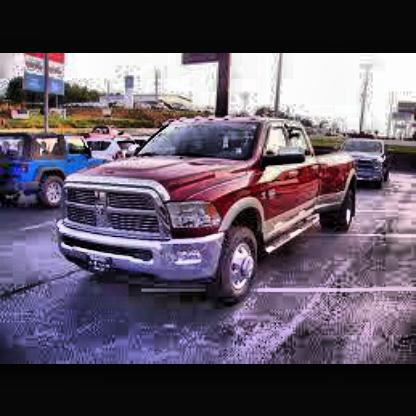Dodge Ram Pickup 3500 Crew Cab 2010: (57, 114, 357, 314)
